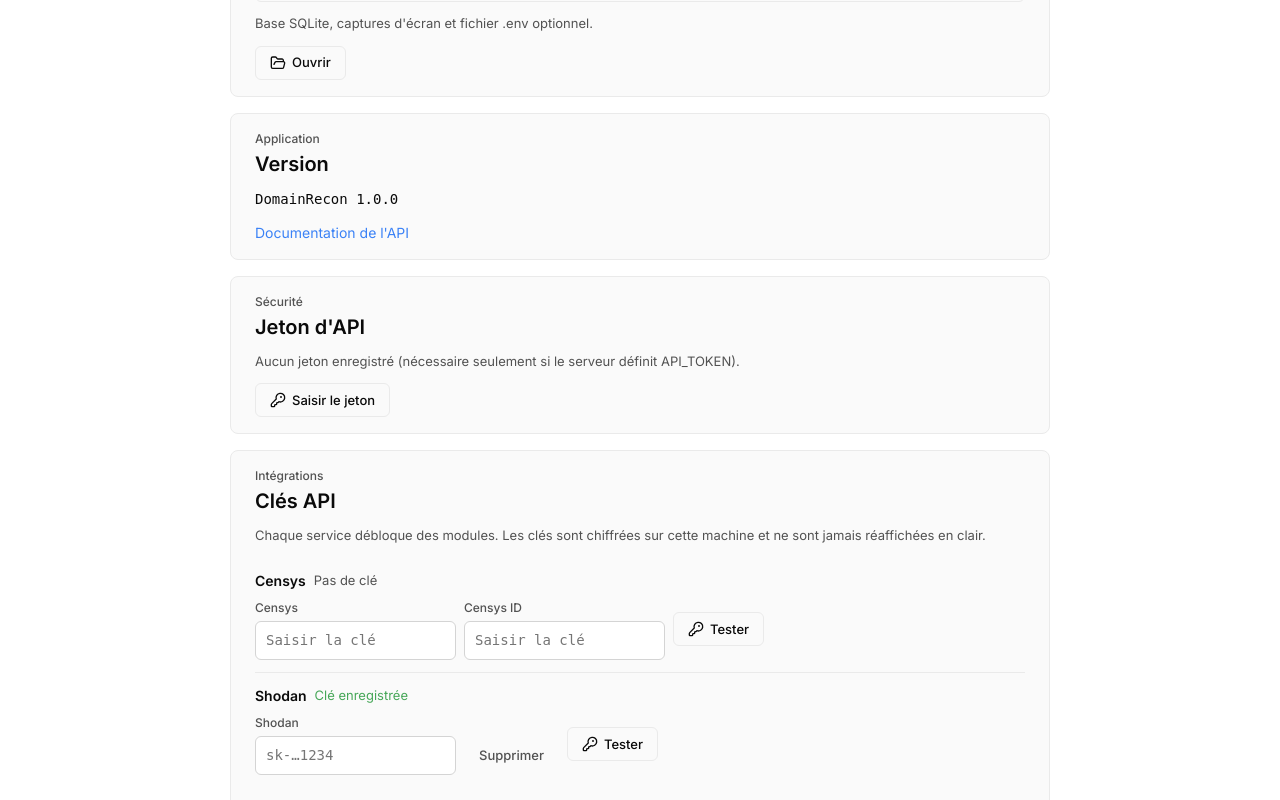
Scenario: écran Réglages › gère le jeton d'API : saisie et oubli
The width and height of the screenshot is (1280, 800).
(page scrolled)
Expected: the text "Aucun jeton enregistré (nécessaire seulement si le serveur définit API_TOKEN)." is shown, [255, 353, 740, 369]
Click the button "Saisir le jeton": (323, 400) [255, 383, 390, 417]
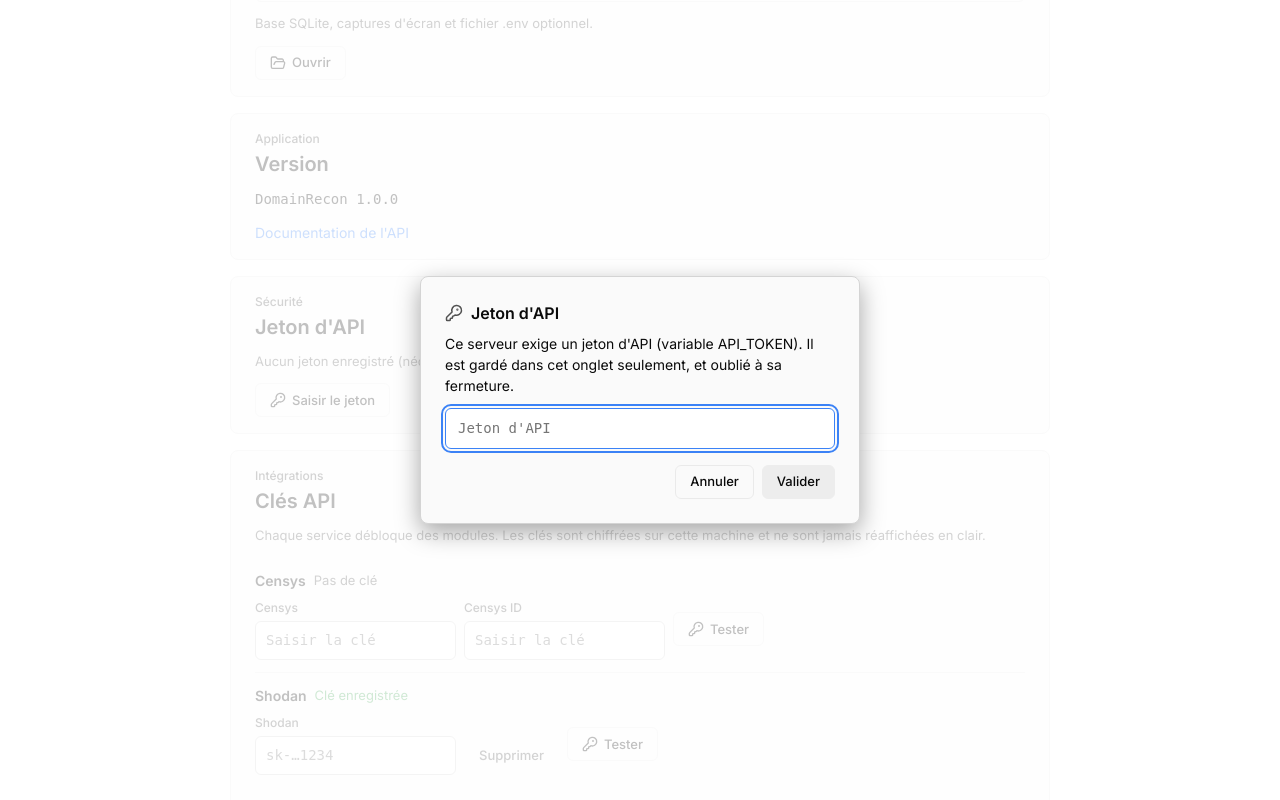
Result: the dialog "Jeton d'API" is shown at [420, 276, 860, 524]
Press Escape
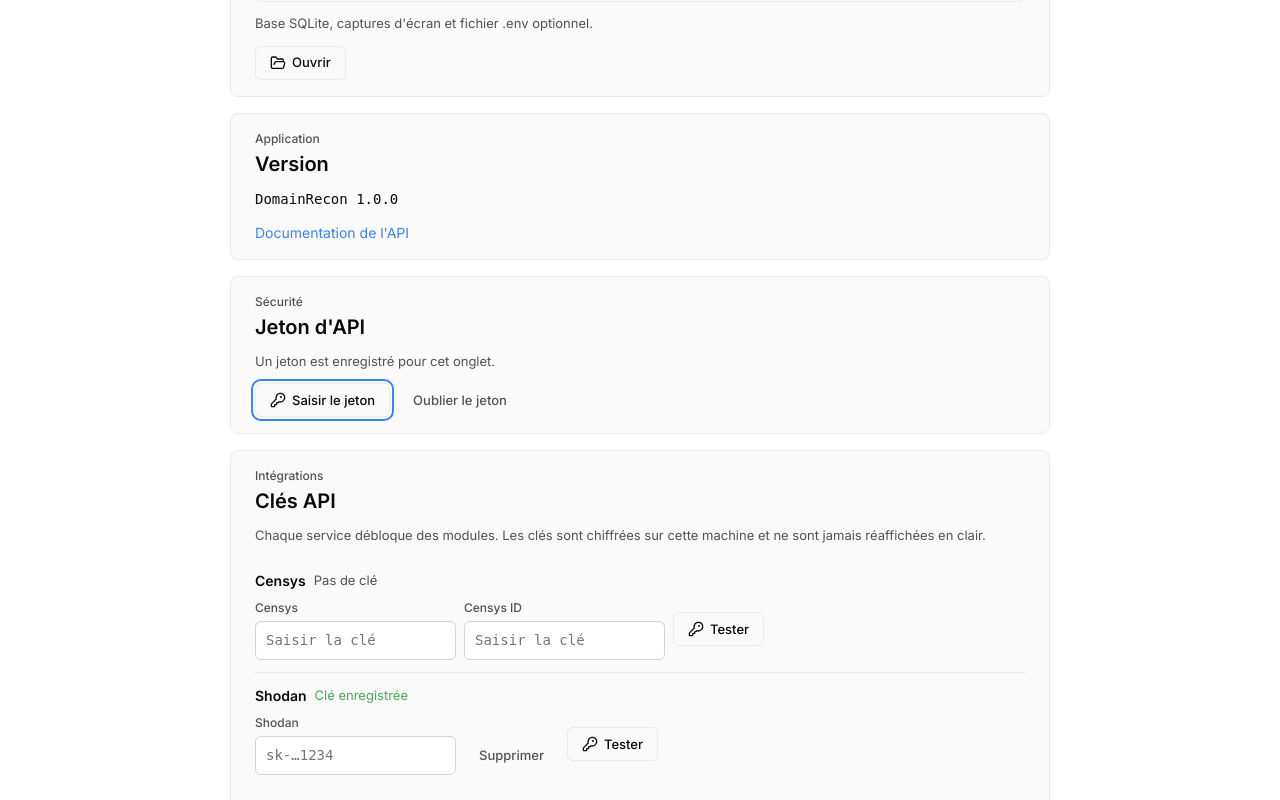
Result: the text "Un jeton est enregistré pour cet onglet." is shown at [255, 353, 495, 369]
Click the button "Oublier le jeton": (460, 400) [398, 383, 522, 417]
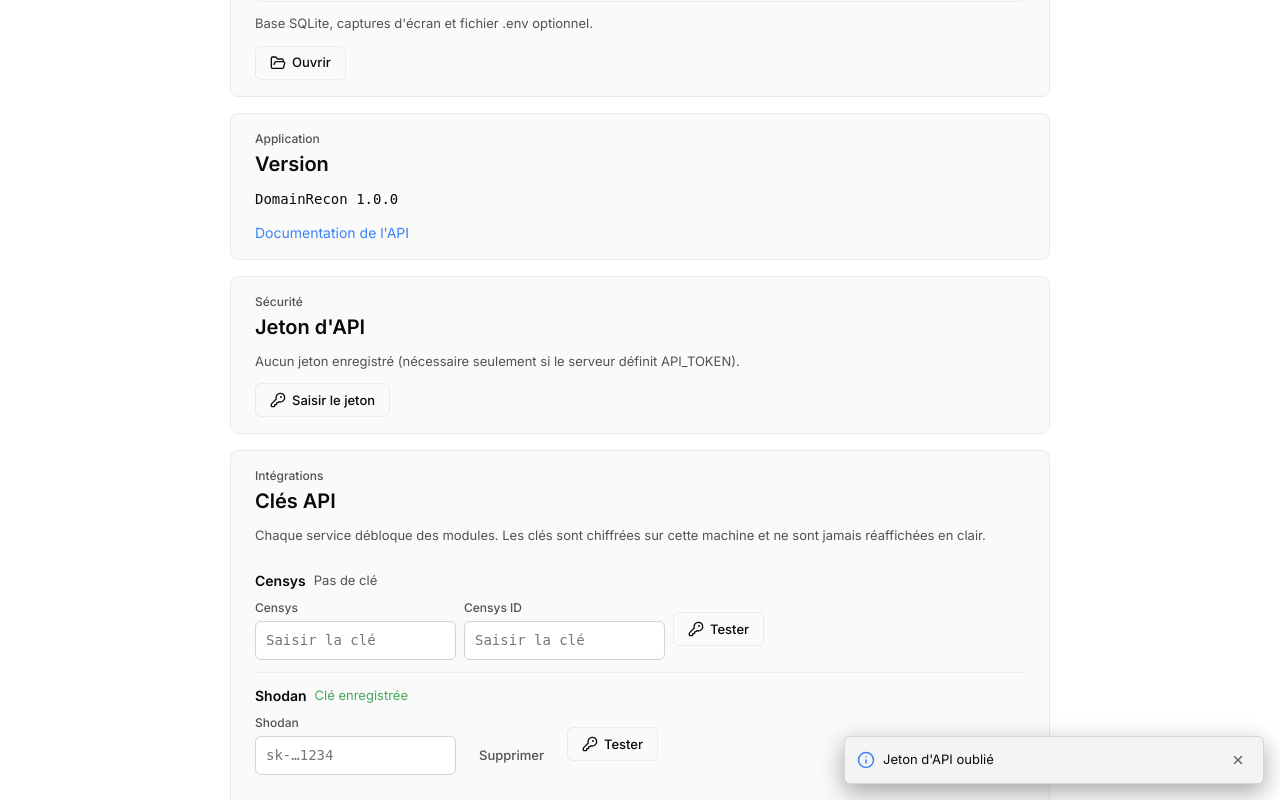
Result: the text "Jeton d'API oublié" is shown at [883, 751, 994, 767]
